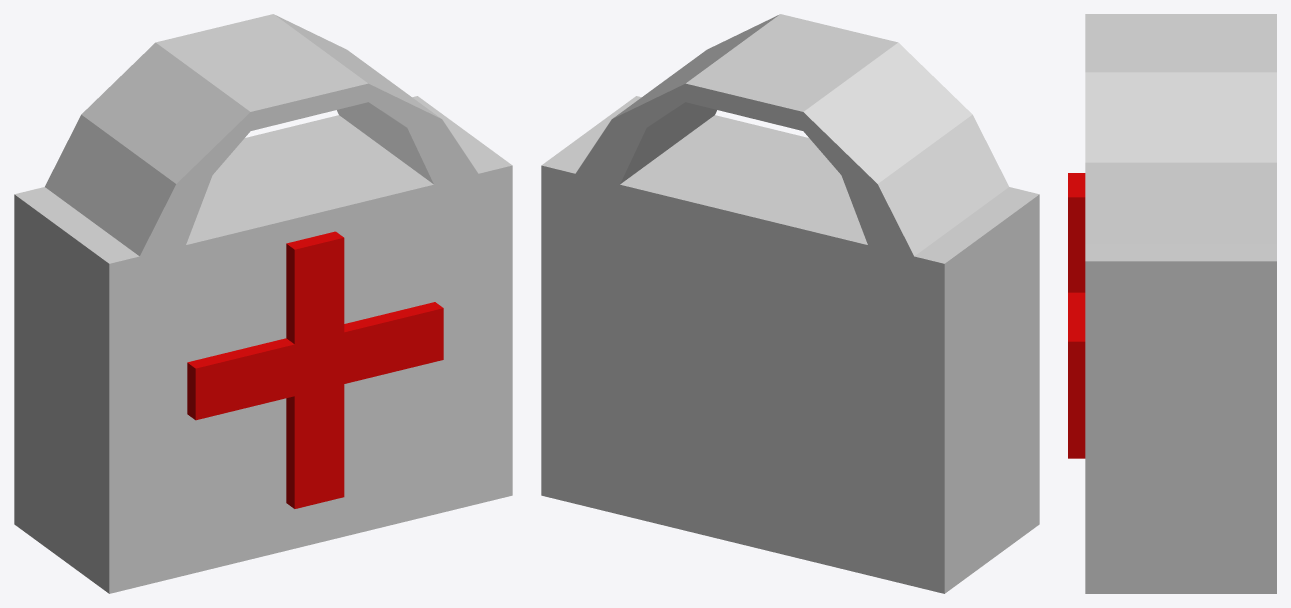
File: medKit.fbx
3 views of the same model, side by side, from view 1: azimuth 30°, elevation 25°; view 2: azimuth 150°, elevation 25°; view 3: azimuth 270°, elevation 25° (orthographic).
Visible parts, largest first — view 1: Cube.003; view 2: Cube.003; view 3: Cube.003.
Part boxes in pixels (<box>): Cube.003: <box>14,14,512,593</box>; Cube.003: <box>541,14,1039,593</box>; Cube.003: <box>1068,14,1276,593</box>.
Bounding box in the file's own units: 256 × 271 × 114.
